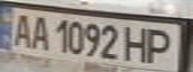0: (66, 18, 84, 55)
1: (48, 16, 69, 53)
2: (100, 21, 124, 61)
9: (81, 20, 103, 57)
A: (6, 10, 36, 48), (27, 12, 51, 51)
H: (121, 24, 154, 64)
P: (142, 26, 181, 65)
